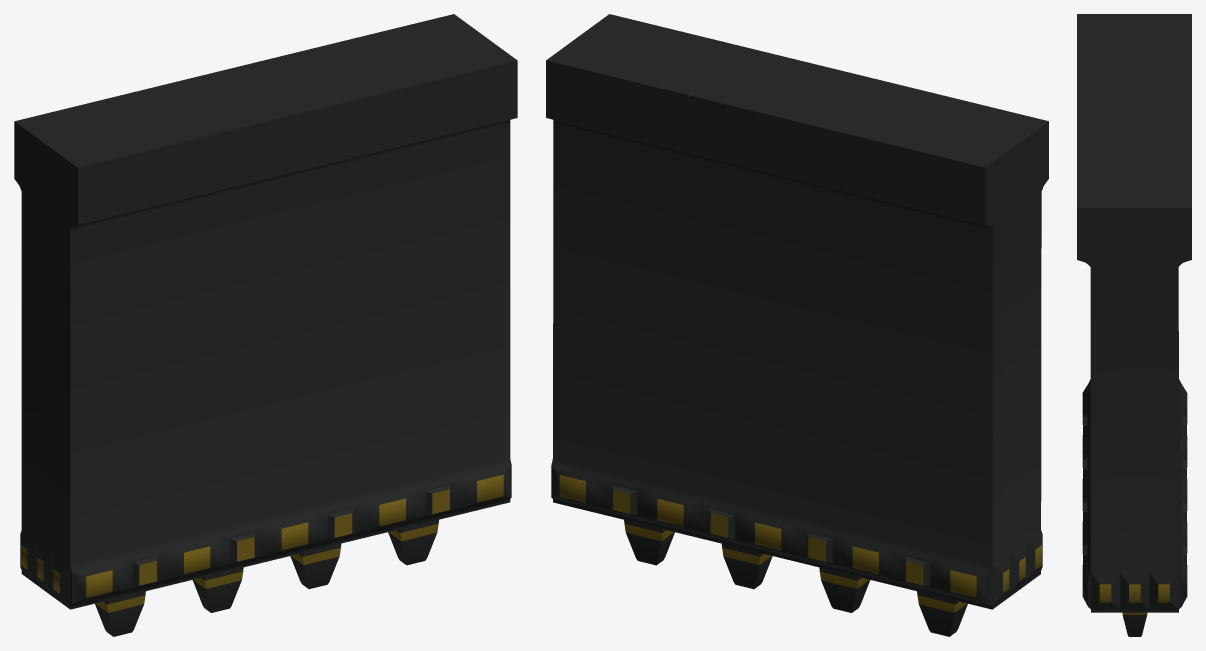
The model's file is Gate.fbx.
3 views of the same model, side by side, from view 1: azimuth 30°, elevation 25°; view 2: azimuth 150°, elevation 25°; view 3: azimuth 270°, elevation 25° (orthographic). The views are drawn at different scales.
Visible parts, largest first — view 1: TOP; view 2: TOP; view 3: TOP.
Boxes of the visible parts, bbox=[...] form: TOP: bbox=[14, 14, 517, 636]; TOP: bbox=[546, 14, 1048, 636]; TOP: bbox=[1077, 14, 1191, 636].
Bounding box in the file's own units: 821 × 879 × 200.
